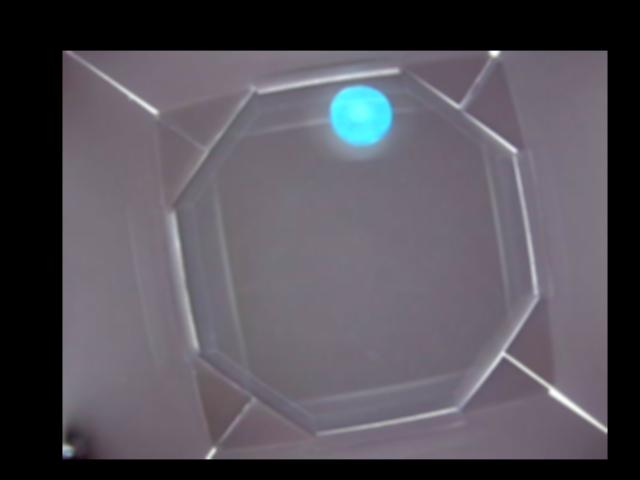Carrot: (329, 86, 393, 145)
